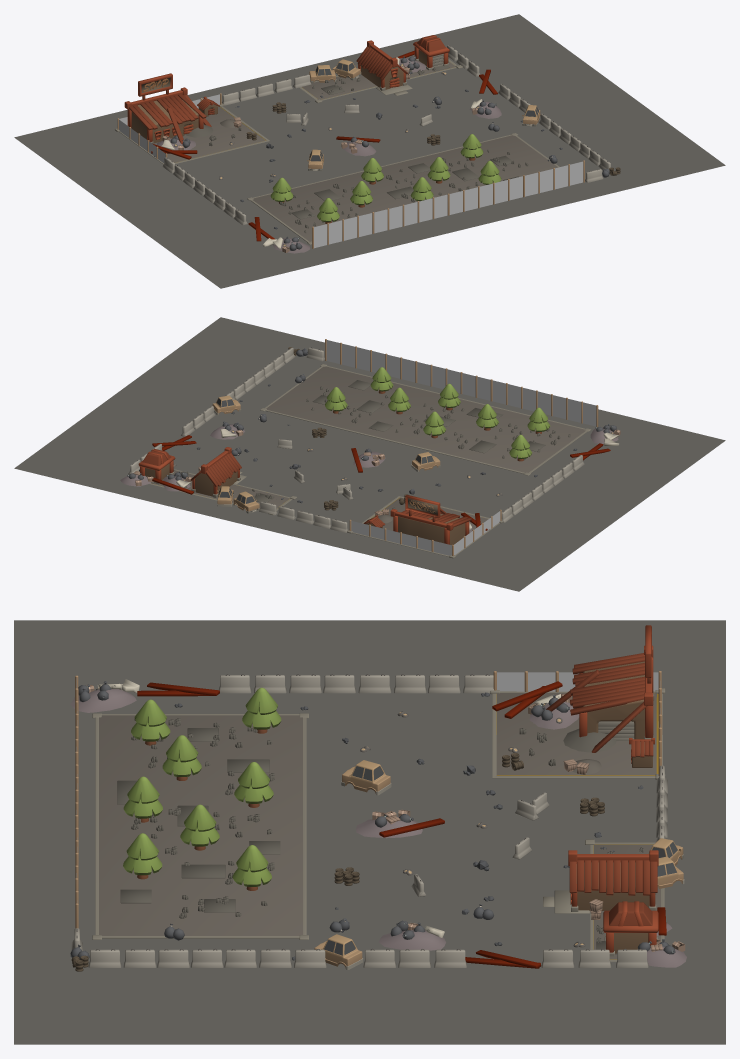
Rendered from SM_Env_2_C.fbx.
3 views of the same model, one above another, from view 1: azimuth 30°, elevation 25°; view 2: azimuth 150°, elevation 25°; view 3: azimuth 270°, elevation 25° (orthographic). The views are drawn at different scales.
Parts seen in each view (by area): view 1: Ground, Plane.171, Plane.378, Cube.026, Cube.045, Plane.015, Cube.016, Plane.013, Cube.036, Plane.021, Cube.027; view 2: Ground, Plane.171, Cube.026, Plane.378, Cube.045, Plane.015, Cube.016, Cube.020, Plane.013, Cube.036; view 3: Ground, Plane.171, Plane.378, Cube.045, Plane.015, Plane.013, Cube.036, Cube.027, Car.001, Cube.016, Car.004, Plane.021 (+3 smaller).
Part boxes in pixels (x1,y1,x2,y2): Ground: (14,14,725,288); Plane.171: (247,133,559,244); Plane.378: (114,73,269,165); Cube.026: (312,160,584,248); Cube.045: (162,45,610,241); Plane.015: (299,35,463,103); Cube.016: (309,59,361,83); Plane.013: (336,136,380,156); Cube.036: (263,237,310,253); Plane.021: (286,104,432,126); Cube.027: (469,99,501,118); Ground: (14,317,725,591); Plane.171: (260,364,591,475); Cube.026: (325,339,598,427); Plane.378: (347,494,502,558); Cube.045: (128,347,610,532); Plane.015: (138,447,297,514); Cube.016: (217,486,259,513); Cube.020: (152,471,193,494); Plane.013: (351,448,385,472); Cube.036: (590,424,620,445); Ground: (14,620,725,1044); Plane.171: (92,687,308,939); Plane.378: (490,625,665,779); Cube.045: (71,674,667,968); Plane.015: (543,839,664,961); Plane.013: (356,809,444,838); Cube.036: (70,679,139,712); Cube.027: (379,920,445,950); Car.001: (341,760,391,795); Cube.016: (648,838,684,888); Car.004: (314,934,363,969); Plane.021: (411,792,549,896).
Bounding box in the file's own units: 8538 × 917 × 6054.
